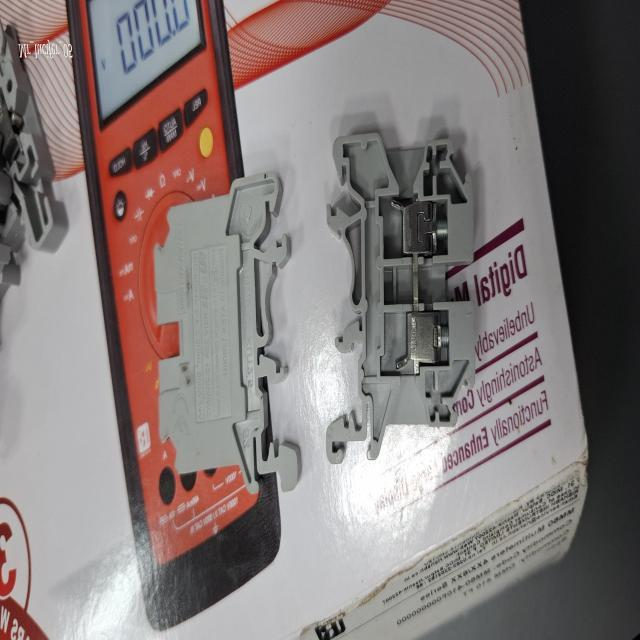Inverted: (139, 126, 305, 514)
Pass: (312, 82, 514, 505)
